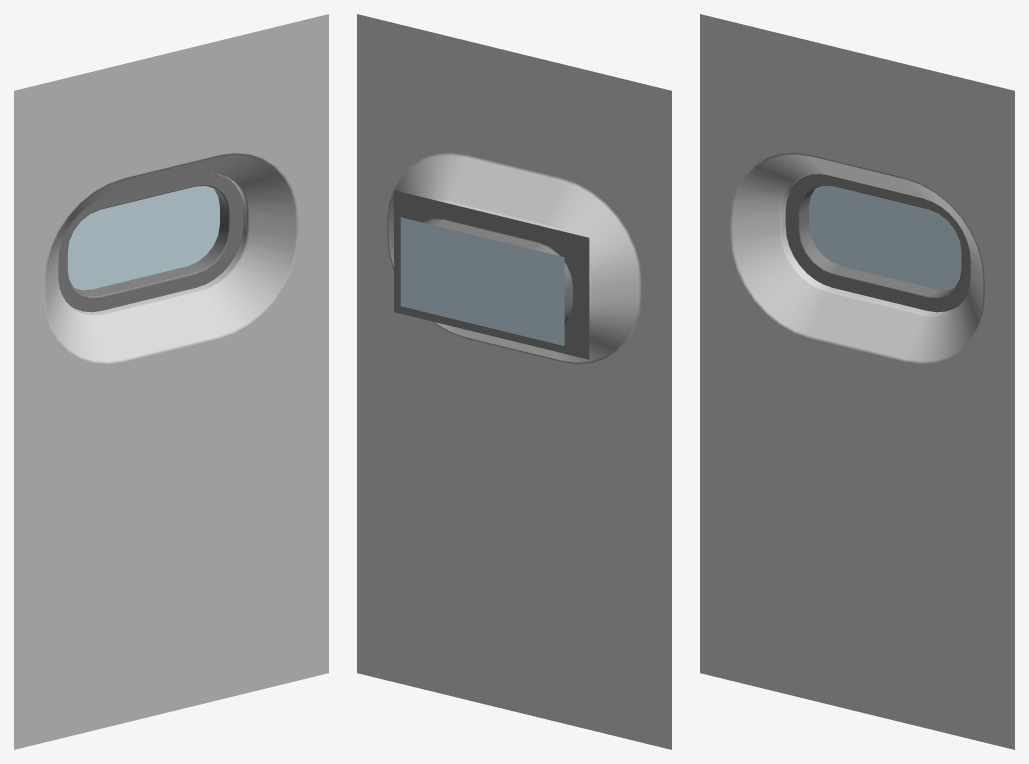
File: ApartmentExteriorWindowSmall02.fbx
The picture shows the model from 3 angles, left to right: view 1: azimuth 30°, elevation 25°; view 2: azimuth 150°, elevation 25°; view 3: azimuth 330°, elevation 25°; orthographic projection.
Parts seen in each view (by area): view 1: ApartmentExteriorWindowSmall02; view 2: ApartmentExteriorWindowSmall02; view 3: ApartmentExteriorWindowSmall02.
Part boxes in pixels (x1=…): ApartmentExteriorWindowSmall02: x1=14, y1=14, x2=328, y2=749; ApartmentExteriorWindowSmall02: x1=357, y1=14, x2=671, y2=749; ApartmentExteriorWindowSmall02: x1=700, y1=14, x2=1014, y2=749.
Bounding box in the file's own units: 200 × 400 × 35.
